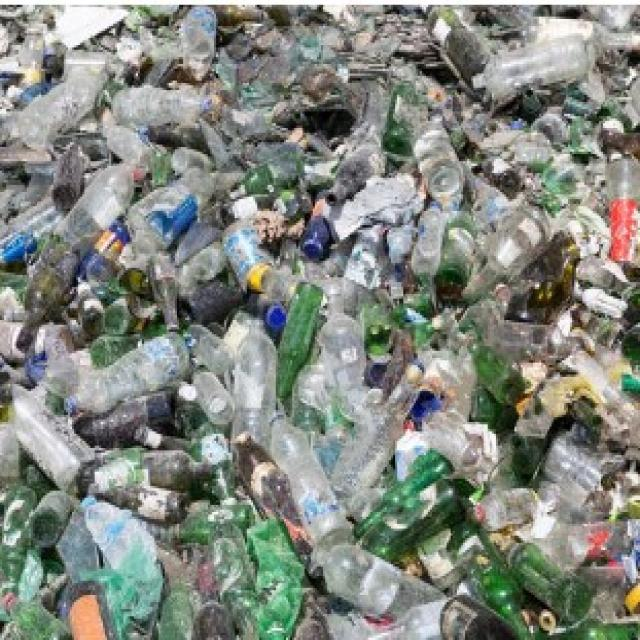electronic: (346, 453, 468, 567), (445, 524, 535, 640), (498, 523, 593, 626), (0, 480, 70, 605), (272, 281, 325, 403), (231, 140, 297, 206)
